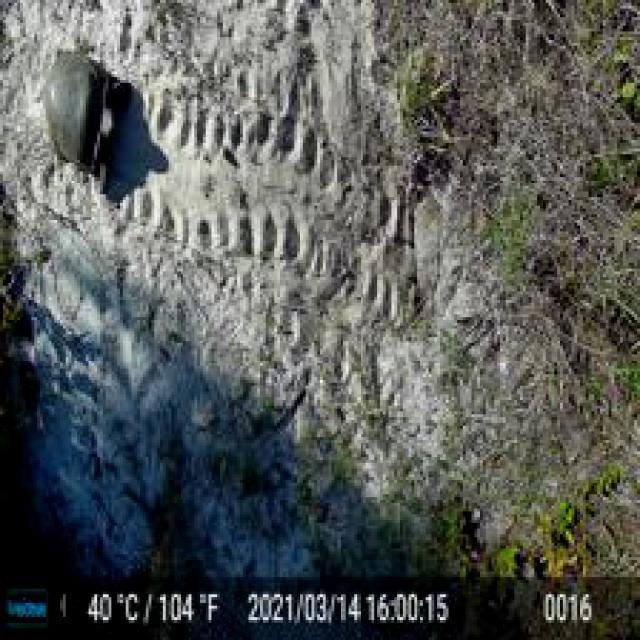tortoise: (40, 49, 128, 197)
